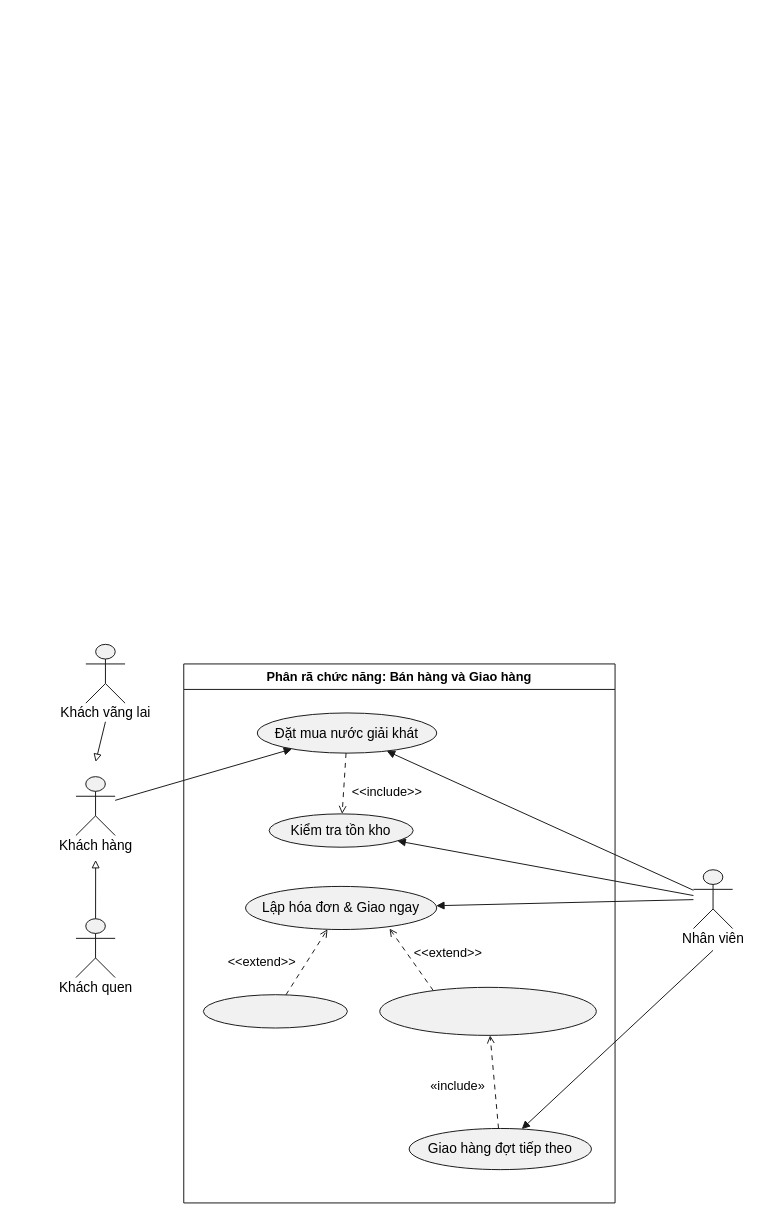
Some shapes in this 766 by 1220 pixel diagram are drawn without their labels. The shapes that lost their labels are listed below. From the top down, each one's centre as x and y in pixels, then its label:
At point (274, 1011): "Lập phiếu ghi nợ".
At point (487, 1010): "Lập phiếu hẹn giao nhiều đợt".
